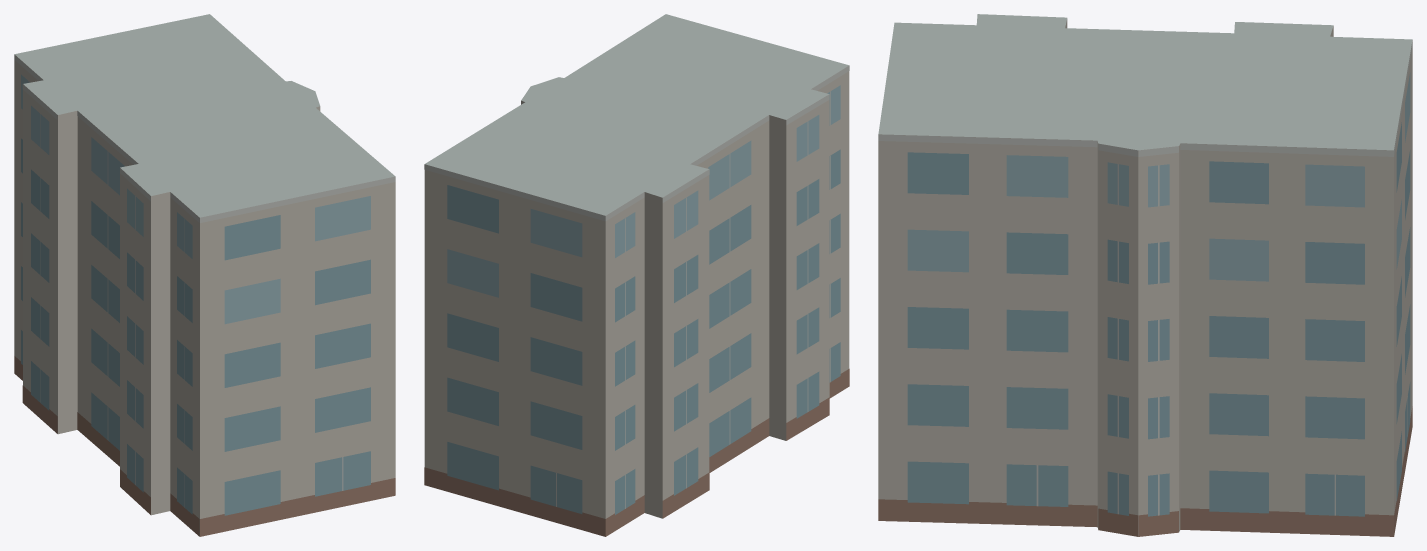
The model's file is survey-upis-32761523.glb.
3 renders of one model, left to right at view 1: azimuth 30°, elevation 25°; view 2: azimuth 150°, elevation 25°; view 3: azimuth 270°, elevation 25°, orthographic. The views are drawn at different scales.
Parts seen in each view (by area): view 1: survey-upis-32761523.tmp; view 2: survey-upis-32761523.tmp; view 3: survey-upis-32761523.tmp.
Boxes of the visible parts, x1,y1,x2,y2 form: survey-upis-32761523.tmp: (14, 14, 395, 536); survey-upis-32761523.tmp: (424, 14, 849, 536); survey-upis-32761523.tmp: (878, 14, 1412, 536).
Bounding box in the file's own units: 10.76 × 14.2 × 17.8.
